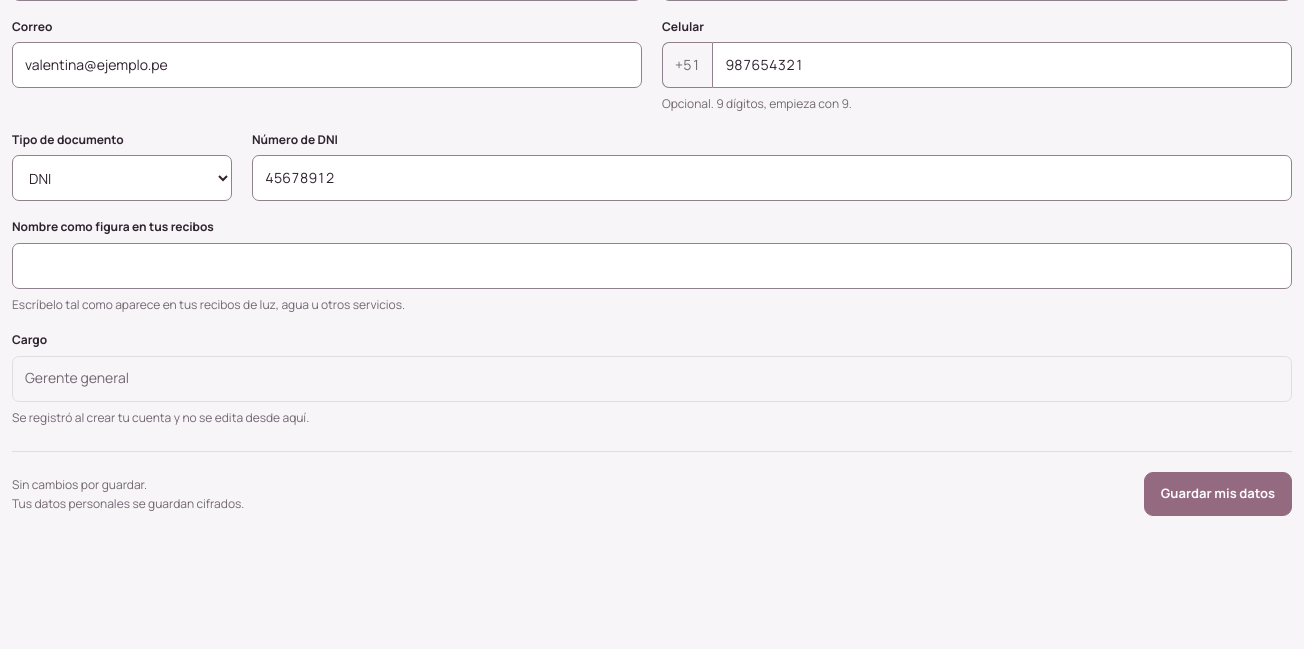
FormularioDatosPersonales › advierte al instante que el número de DNI no se cambia
Step 1. Replace the text in the field labelled "Número de DNI" with "45678913" → (772, 178), box [252,155,1292,201]
(page scrolled)
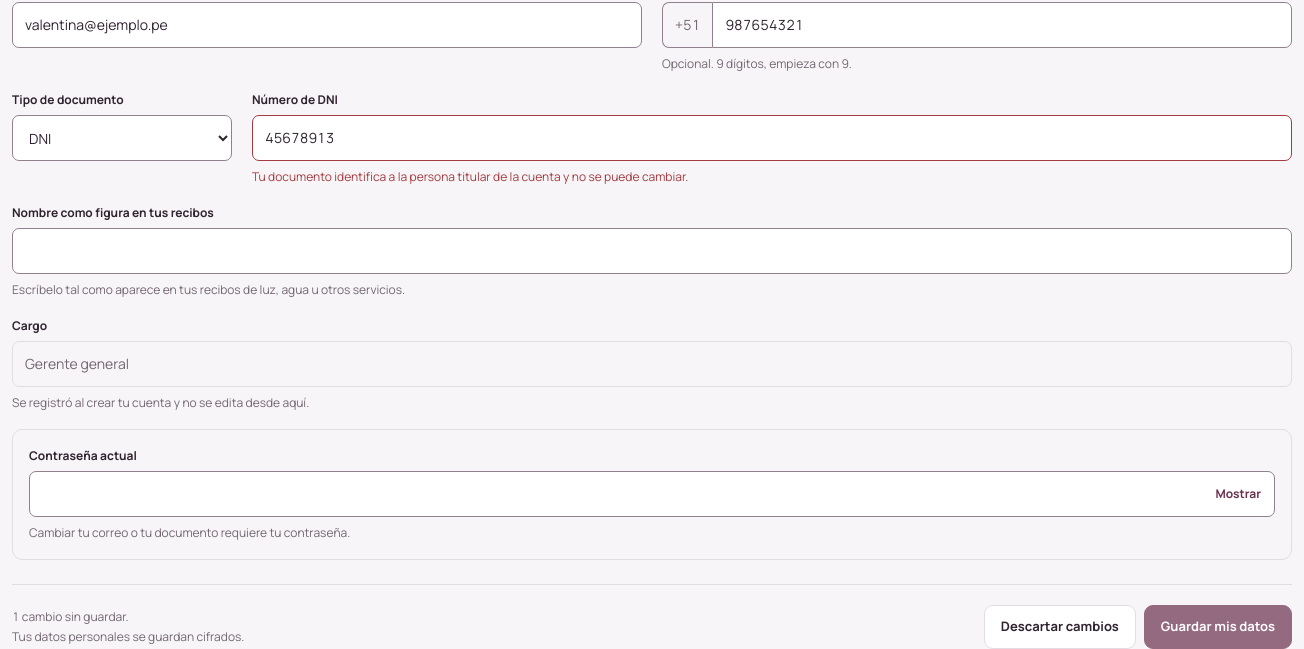
Expected: the button "Guardar mis datos" is disabled, [1144,604,1292,648]
Expected: the text "no se puede cambiar" is shown, [252,168,688,185]
